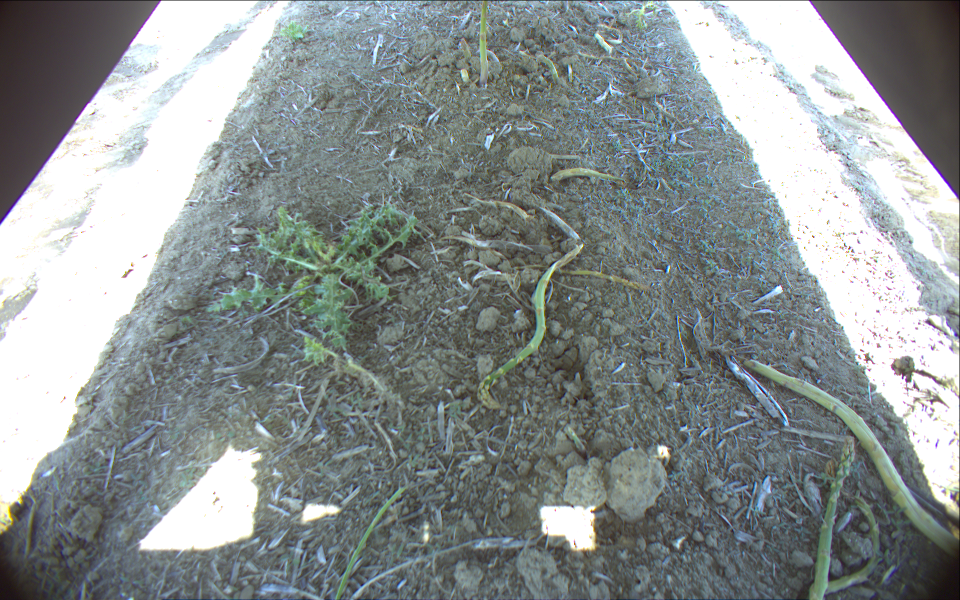aspa: (743, 357, 960, 562), (476, 244, 583, 409), (333, 487, 404, 600), (809, 436, 854, 600), (824, 495, 881, 595), (512, 263, 652, 292), (549, 166, 627, 185), (477, 1, 491, 87), (538, 55, 560, 80), (596, 33, 612, 56)
